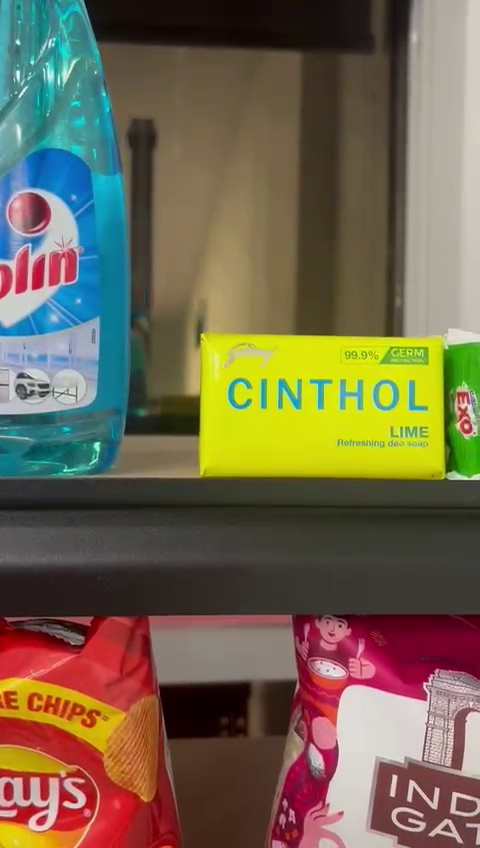Cinthol: (203, 334, 444, 480)
